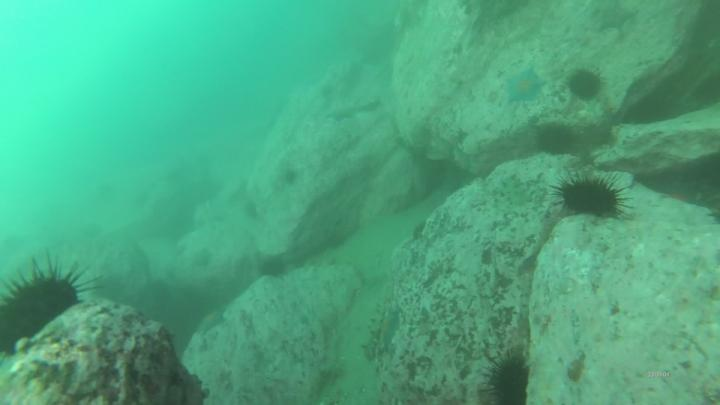echinus: (3, 277, 80, 353), (561, 179, 620, 214), (493, 364, 529, 405), (538, 123, 572, 157), (569, 70, 602, 99), (260, 259, 288, 277)
starfish: (505, 71, 546, 103), (199, 311, 225, 335), (382, 314, 398, 353)
